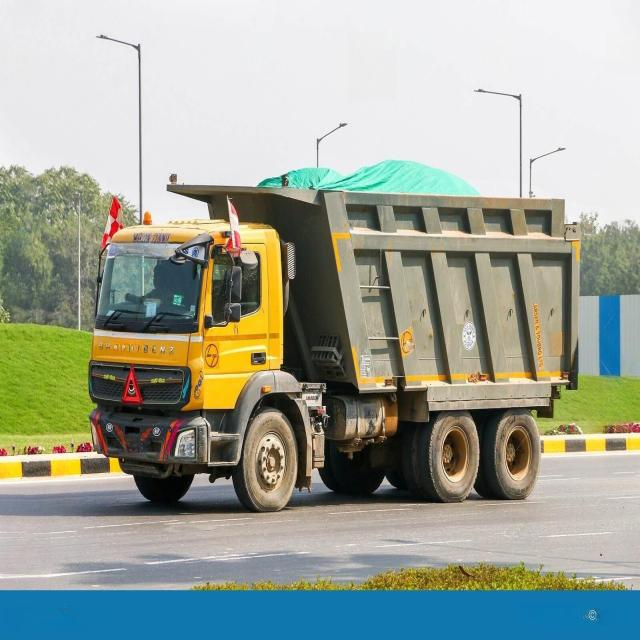truck: (88, 185, 579, 512)
